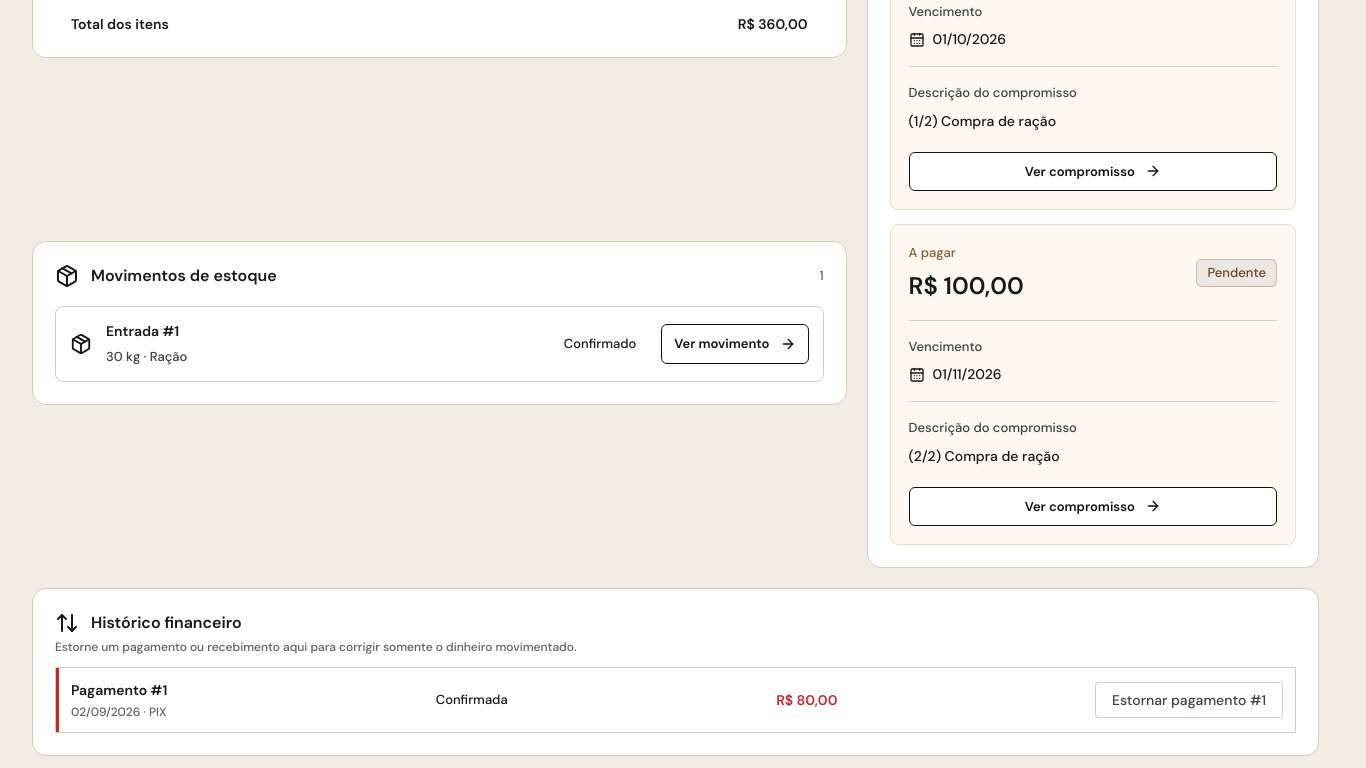
Test: OperacaoFinanceiraDetalhe — detalhe da parcela › parcela pendente informa que ainda não há pagamento ou recebimento registrado
(page scrolled)
Click the button "(2/2) Compra de ração".
click(1093, 384)  # box [890,224,1296,545]
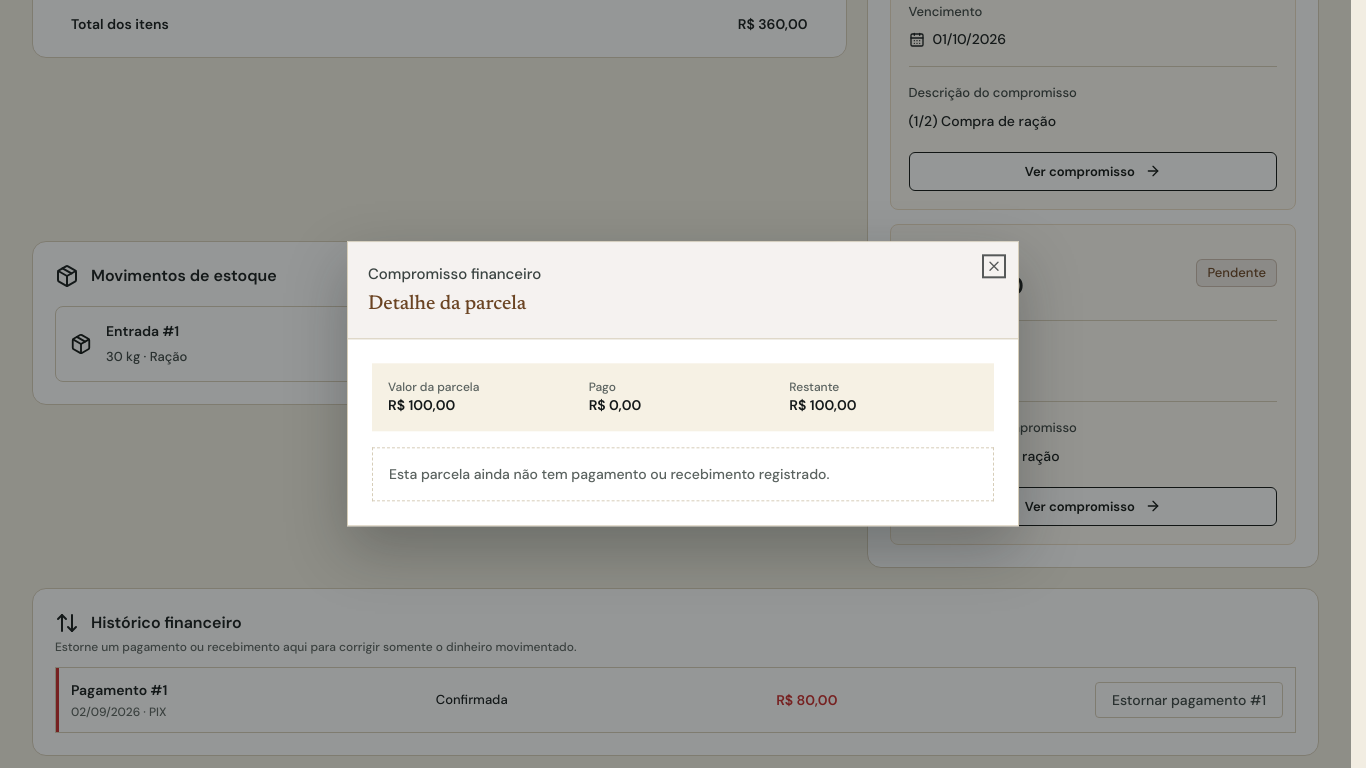
Expected: the text "ainda não tem pagamento ou recebimento registrado" is shown, [389,466,830,484]
